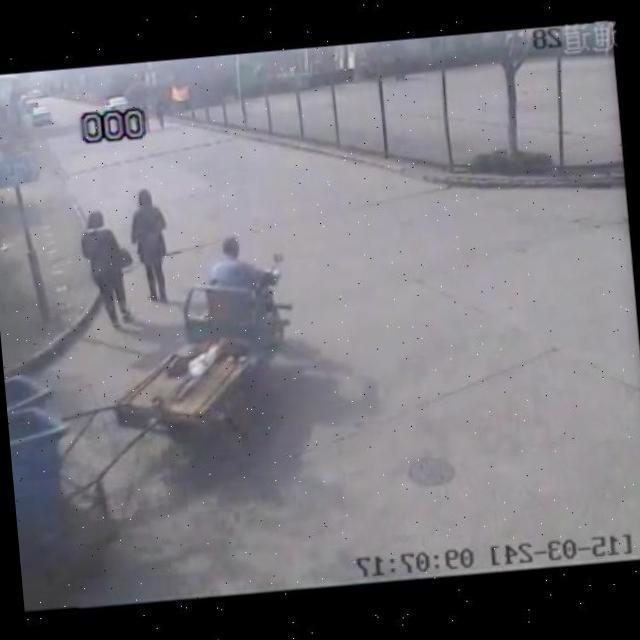person: (72, 205, 140, 334), (123, 185, 176, 306), (200, 229, 259, 286)
